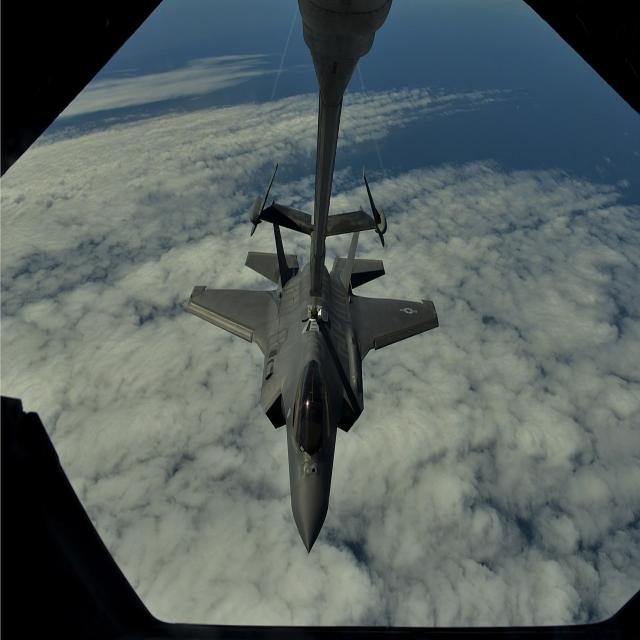MIL_Plane: (184, 198, 440, 557)
